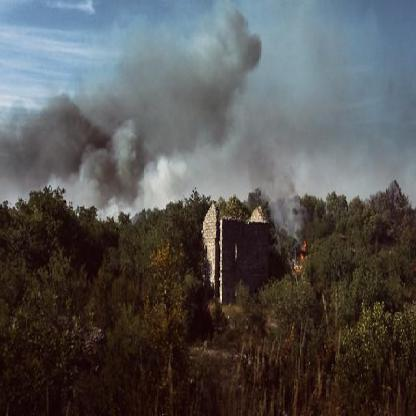fire: (286, 233, 316, 278)
smoke: (5, 2, 270, 196)
